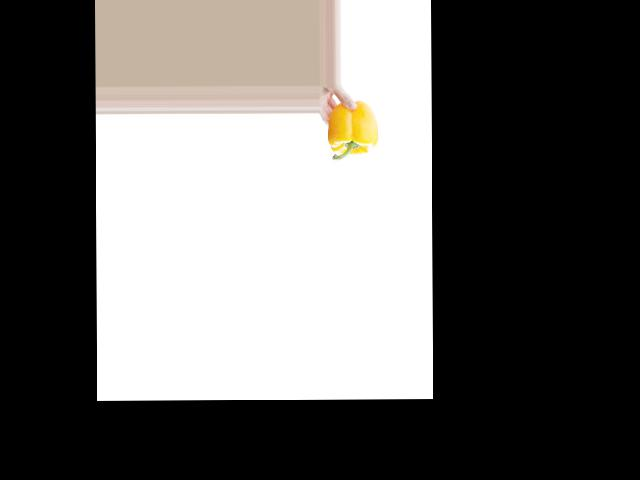bell_pepper: (328, 99, 379, 163)
